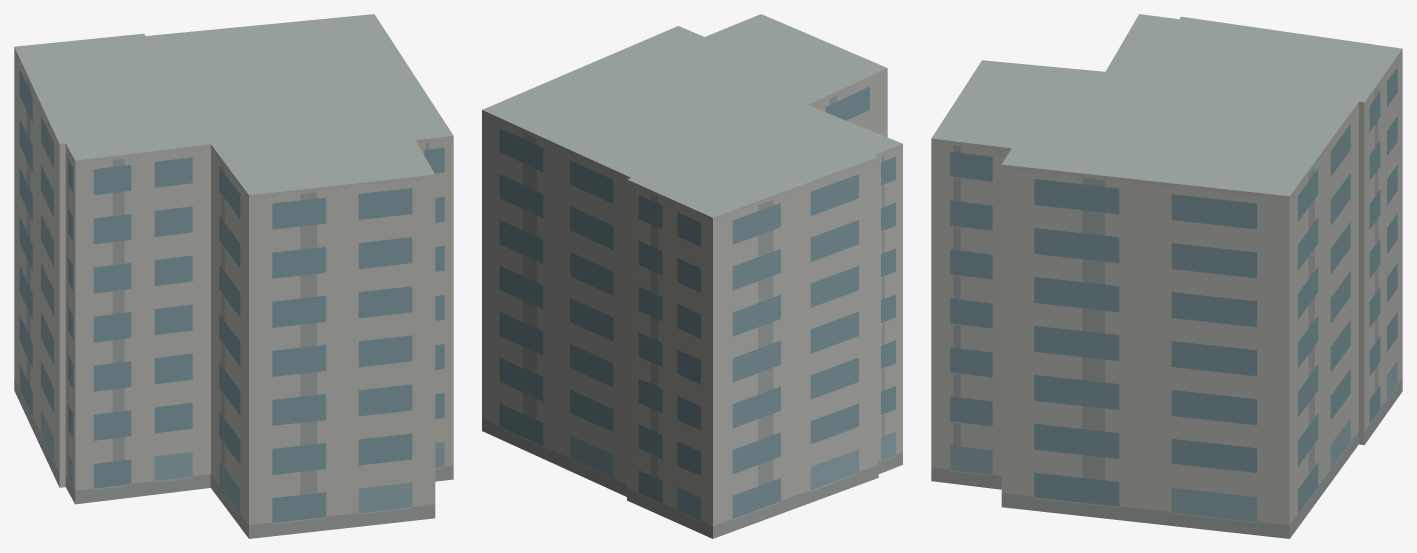
The model's file is survey-upis-32808520.glb.
The picture shows the model from 3 angles, left to right: view 1: azimuth 30°, elevation 25°; view 2: azimuth 150°, elevation 25°; view 3: azimuth 270°, elevation 25°; orthographic projection. The views are drawn at different scales.
Parts seen in each view (by area): view 1: survey-upis-32808520.tmp; view 2: survey-upis-32808520.tmp; view 3: survey-upis-32808520.tmp.
Part boxes in pixels (x1=…): survey-upis-32808520.tmp: x1=14, y1=14, x2=453, y2=538; survey-upis-32808520.tmp: x1=482, y1=14, x2=902, y2=538; survey-upis-32808520.tmp: x1=931, y1=14, x2=1402, y2=538.
Bounding box in the file's own units: 22.03 × 19.3 × 24.07.
